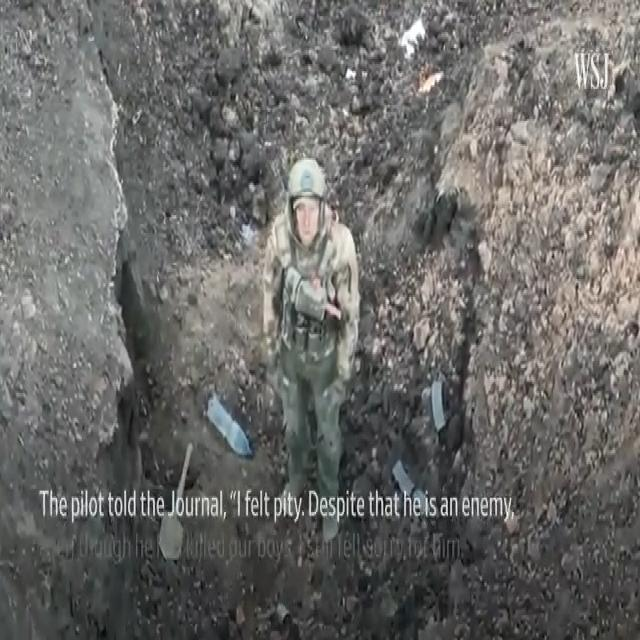MIL_Pax: (264, 158, 358, 496)
